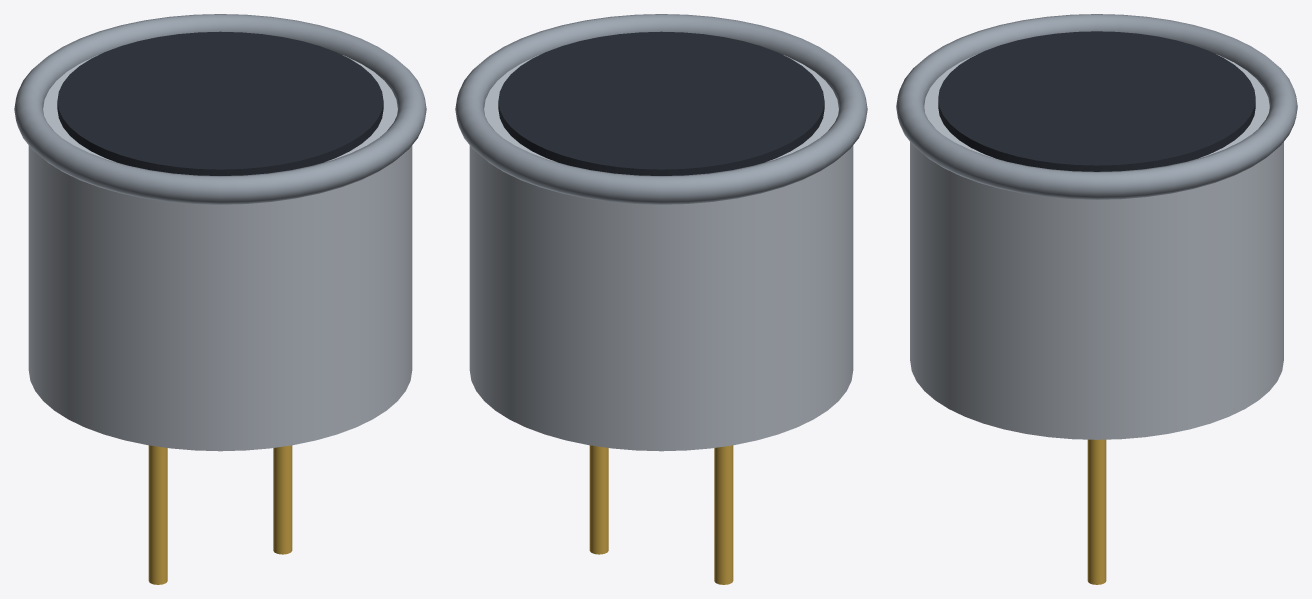
Rendered from transmitter.glb.
The picture shows the model from 3 angles, left to right: view 1: azimuth 30°, elevation 25°; view 2: azimuth 150°, elevation 25°; view 3: azimuth 270°, elevation 25°; orthographic projection. The views are drawn at different scales.
Bounding box in the file's own units: 0.172 × 0.216 × 0.172.
